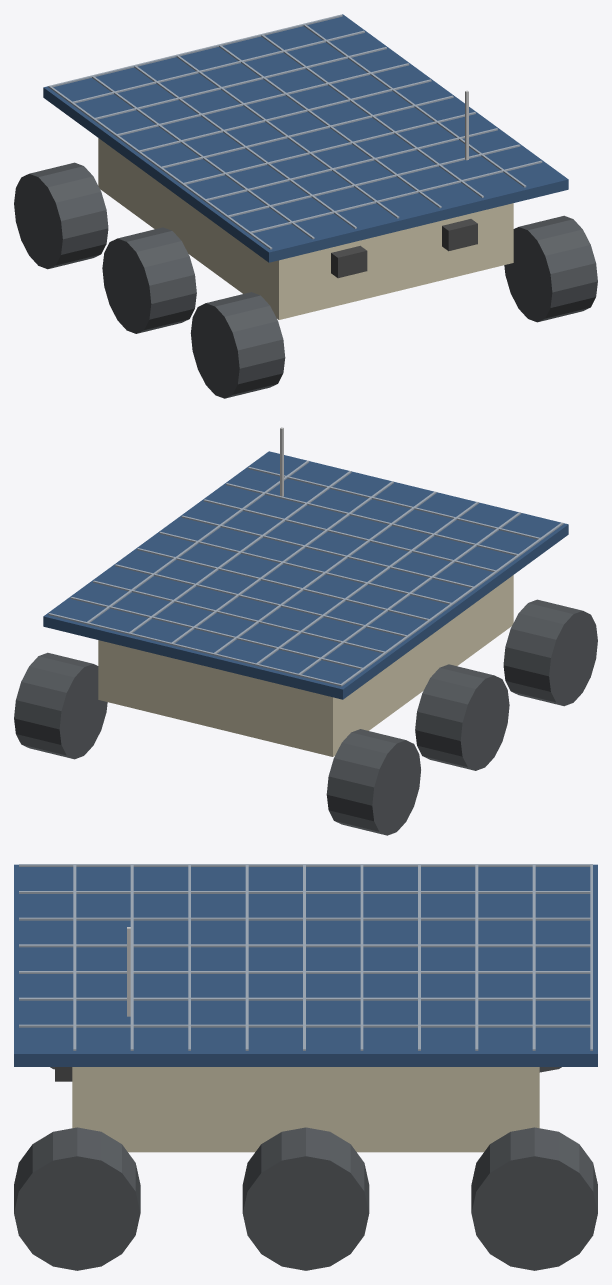
File: sojourner-study.glb
3 views of the same model, one above another, from view 1: azimuth 30°, elevation 25°; view 2: azimuth 150°, elevation 25°; view 3: azimuth 270°, elevation 25° (orthographic). The views are drawn at different scales.
Bounding box in the file's own units: 0.55 × 0.327 × 0.6.
